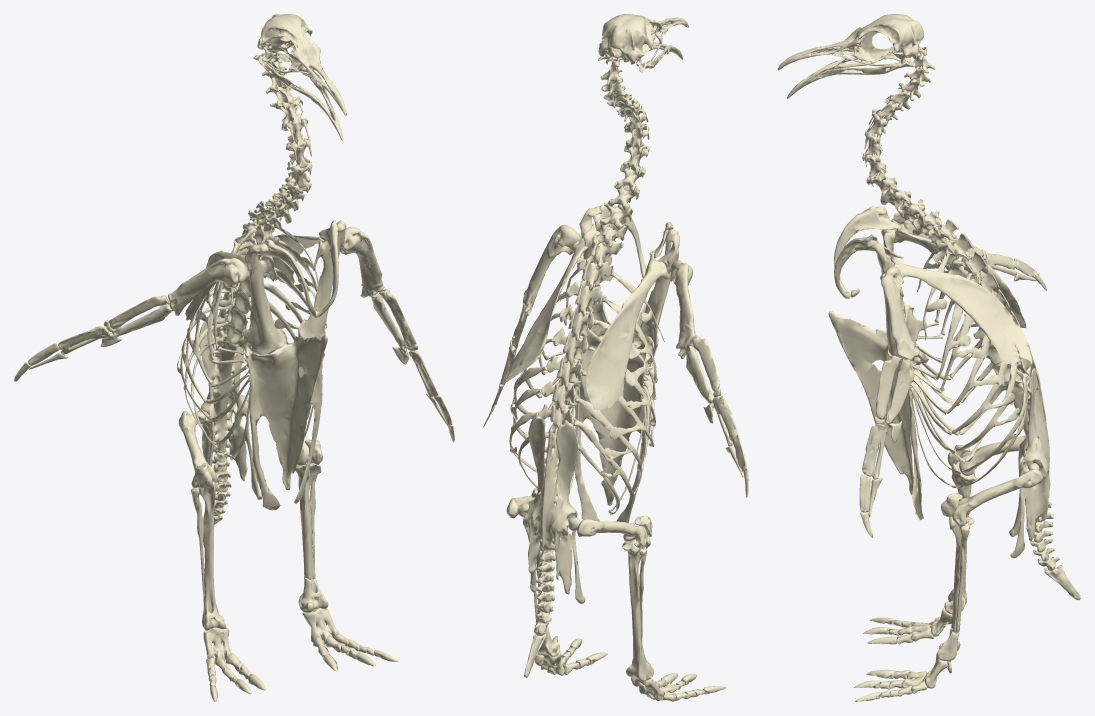
File: emperor_penguin_imnh-r-1367-v1.glb
3 views of the same model, side by side, from view 1: azimuth 30°, elevation 25°; view 2: azimuth 150°, elevation 25°; view 3: azimuth 270°, elevation 25° (orthographic). The views are drawn at different scales.
Visible parts, largest first — view 1: Object_3; view 2: Object_3; view 3: Object_3.
Part boxes in pixels (<box>): Object_3: <box>14,14,454,701</box>; Object_3: <box>483,14,748,701</box>; Object_3: <box>777,14,1080,701</box>.
Size of the model in its own units: 490 by 872 by 372.
